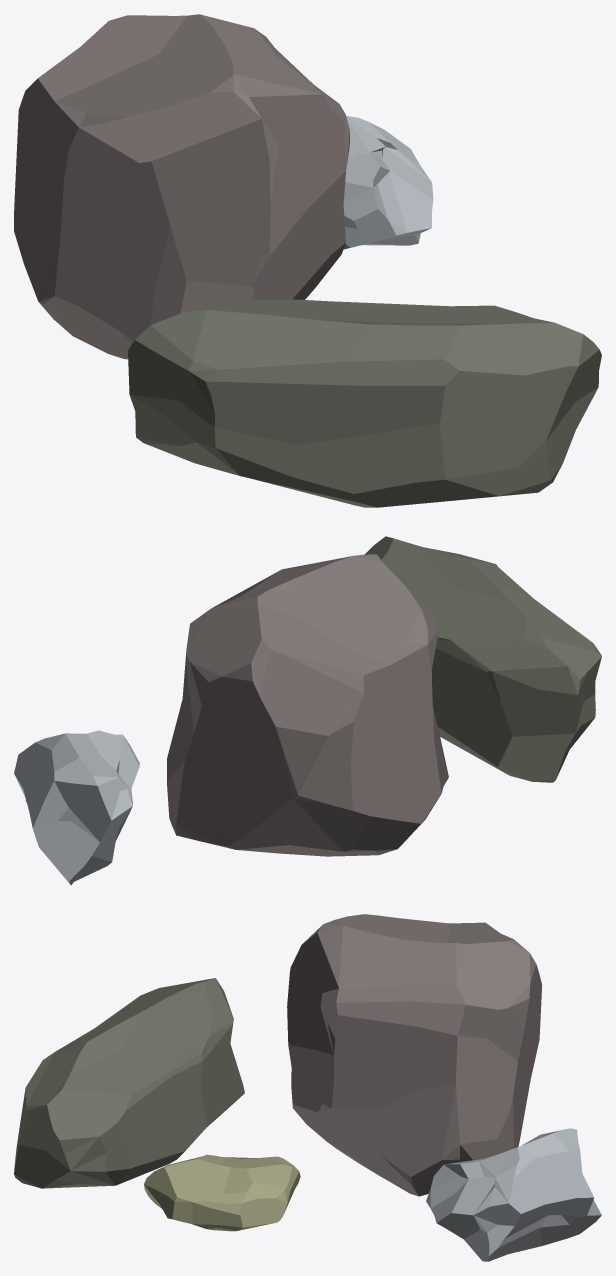
Rendered from _ocks.fbx.
3 views of the same model, one above another, from view 1: azimuth 30°, elevation 25°; view 2: azimuth 150°, elevation 25°; view 3: azimuth 270°, elevation 25° (orthographic). The views are drawn at different scales.
Parts seen in each view (by area): view 1: Cube.002; view 2: Cube.002; view 3: Cube.002.
Part boxes in pixels (x1,y1,x2,y2): Cube.002: (14, 14, 601, 507); Cube.002: (14, 536, 601, 885); Cube.002: (14, 914, 601, 1261).
Size of the model in its own units: 399 by 262 by 565.
